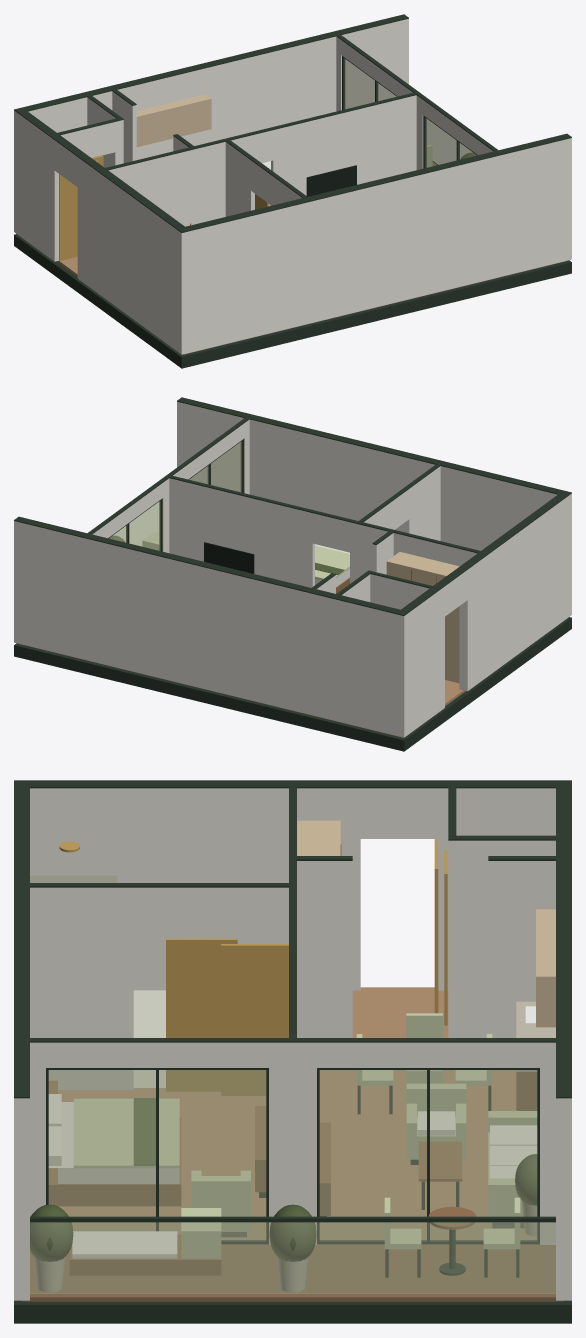
Rendered from phong-suite.glb.
3 renders of one model, top to bottom at view 1: azimuth 30°, elevation 25°; view 2: azimuth 150°, elevation 25°; view 3: azimuth 270°, elevation 25°, orthographic. The views are drawn at different scales.
Parts seen in each view (by area): view 1: Suite; view 2: Suite; view 3: Suite.
Boxes of the visible parts, x1,y1,x2,y2 form: Suite: (14, 14, 571, 368); Suite: (14, 397, 571, 751); Suite: (14, 780, 571, 1323).
Size of the model in its own units: 9.4 by 3.14 by 7.
